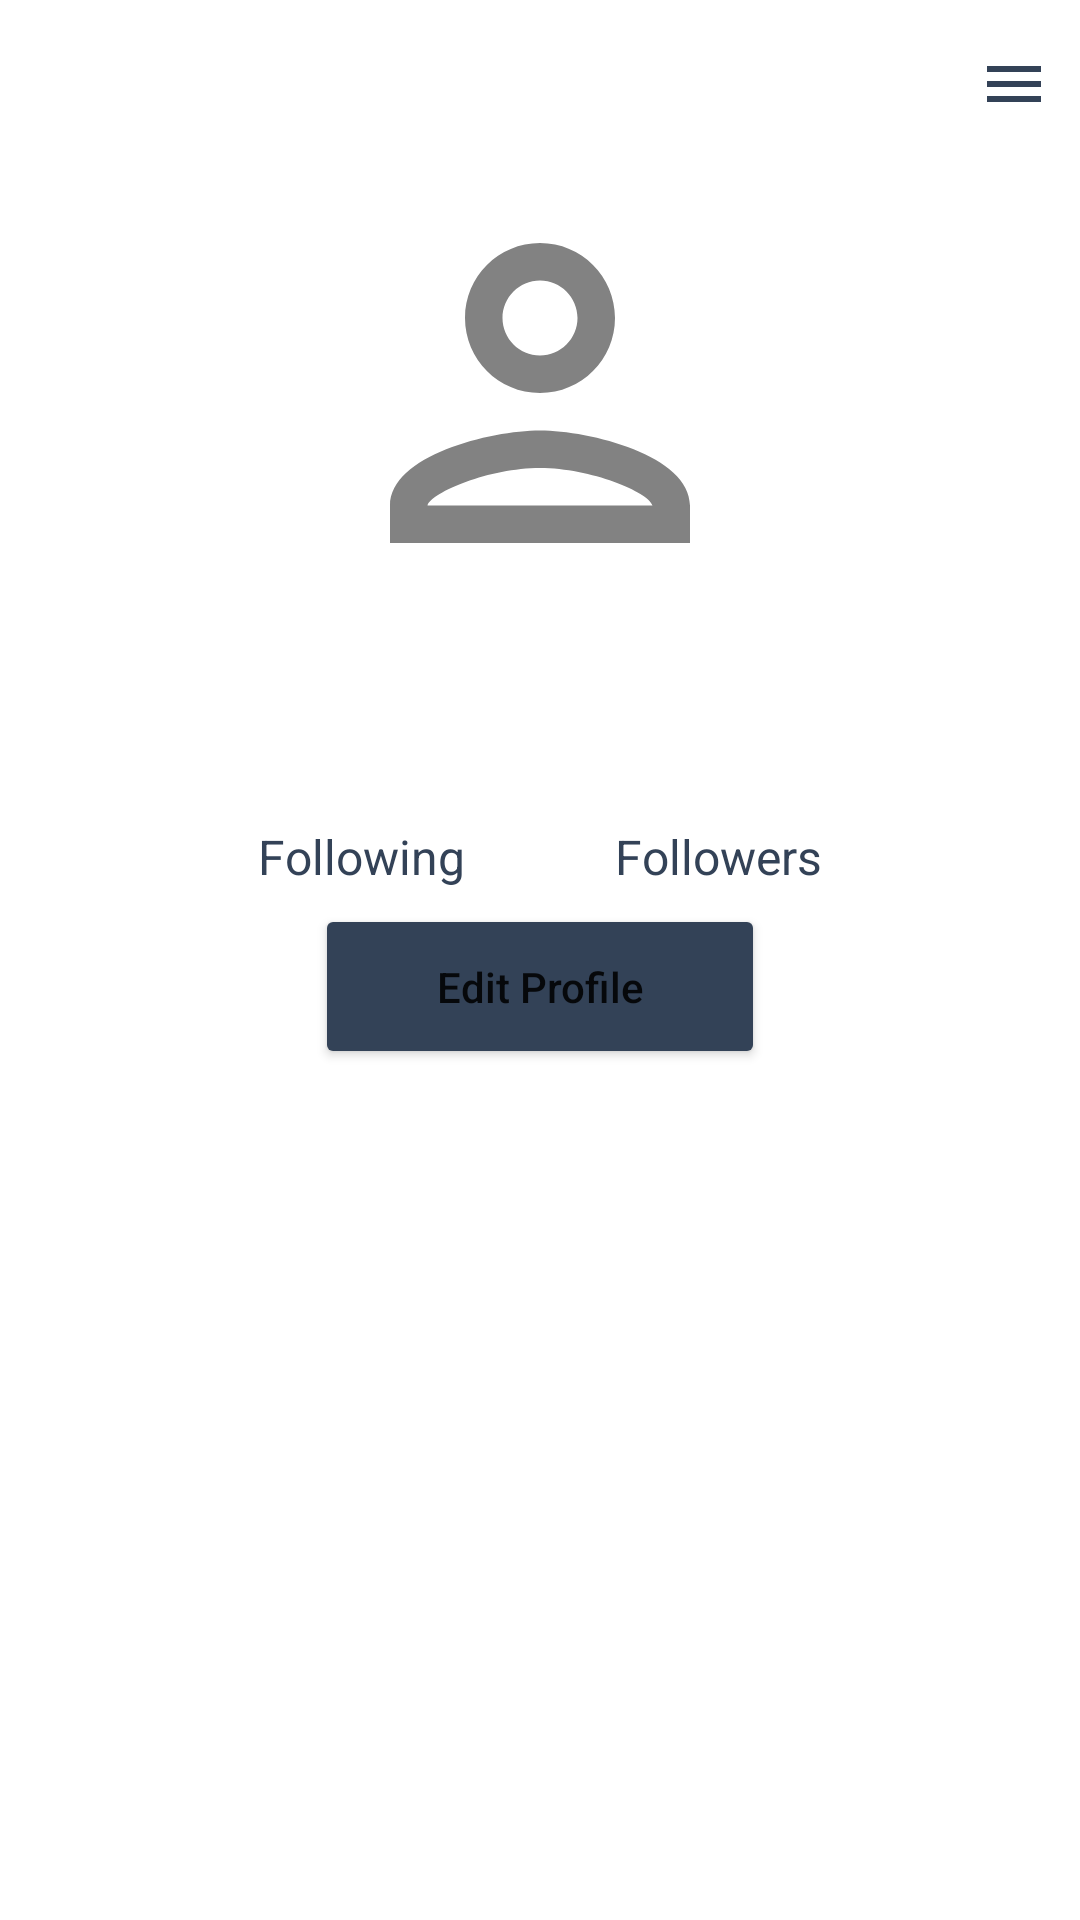

Icons on this 1080 × 1920 Android screen, each with the point to tap as (x,y):
menu: (1014,84)
person: (540,393)
